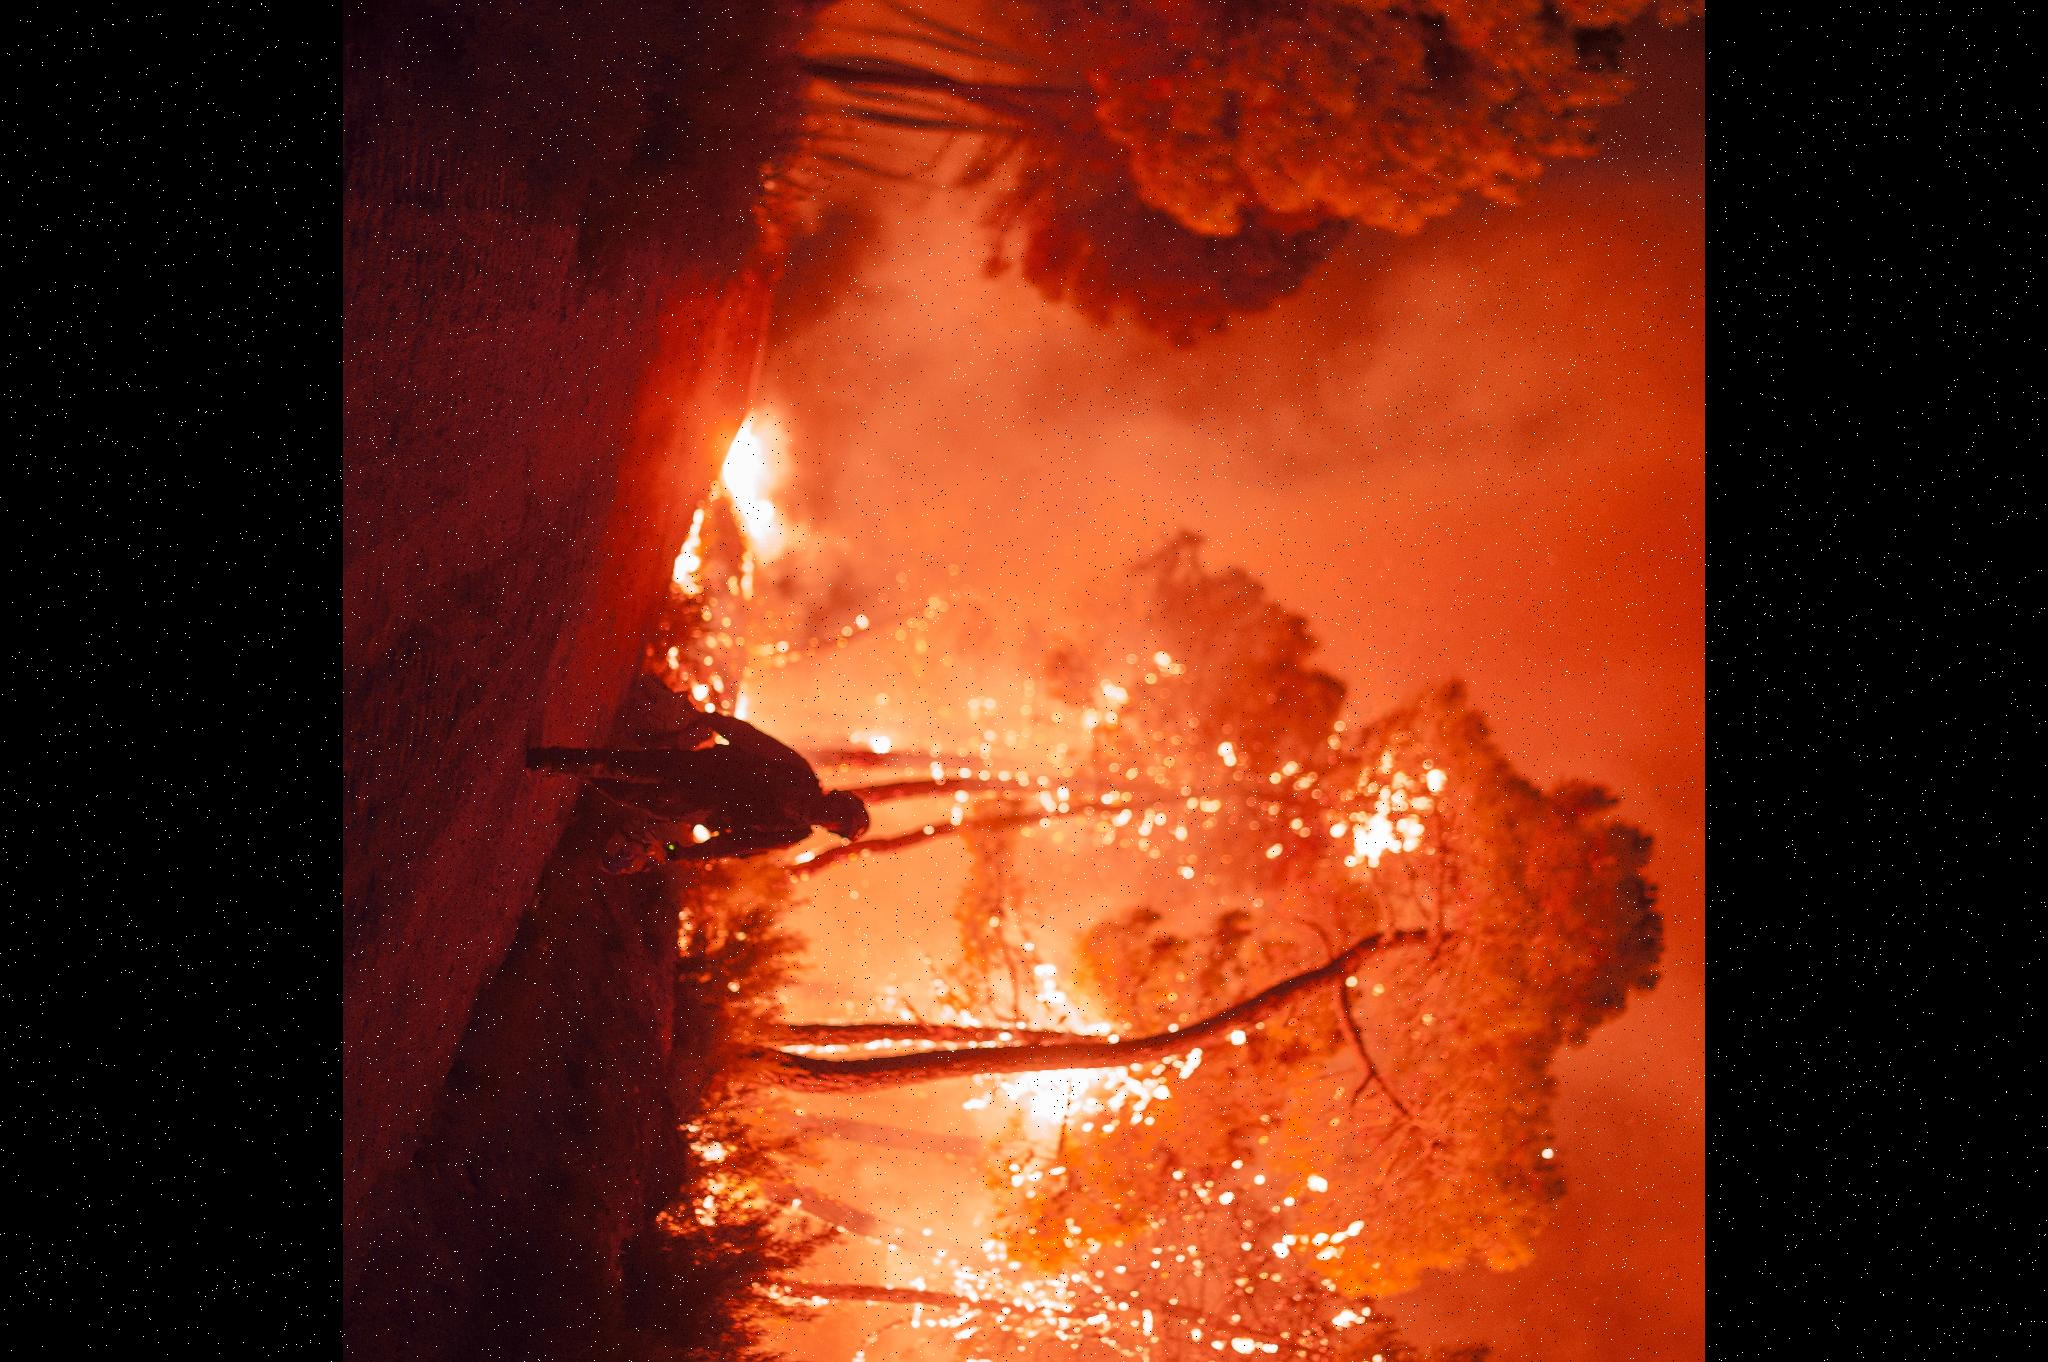fire: (597, 855, 1359, 1362), (634, 402, 892, 730)
